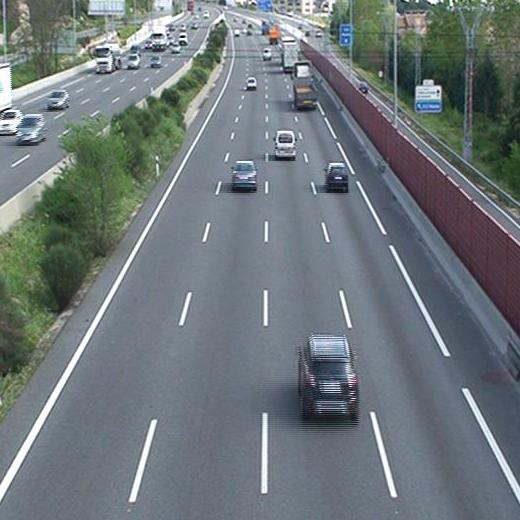car: (297, 335, 360, 420), (231, 161, 257, 191), (323, 161, 349, 188)
truck: (292, 61, 317, 108), (281, 40, 299, 71)
van: (274, 131, 295, 159), (245, 77, 258, 90), (262, 48, 273, 61)
